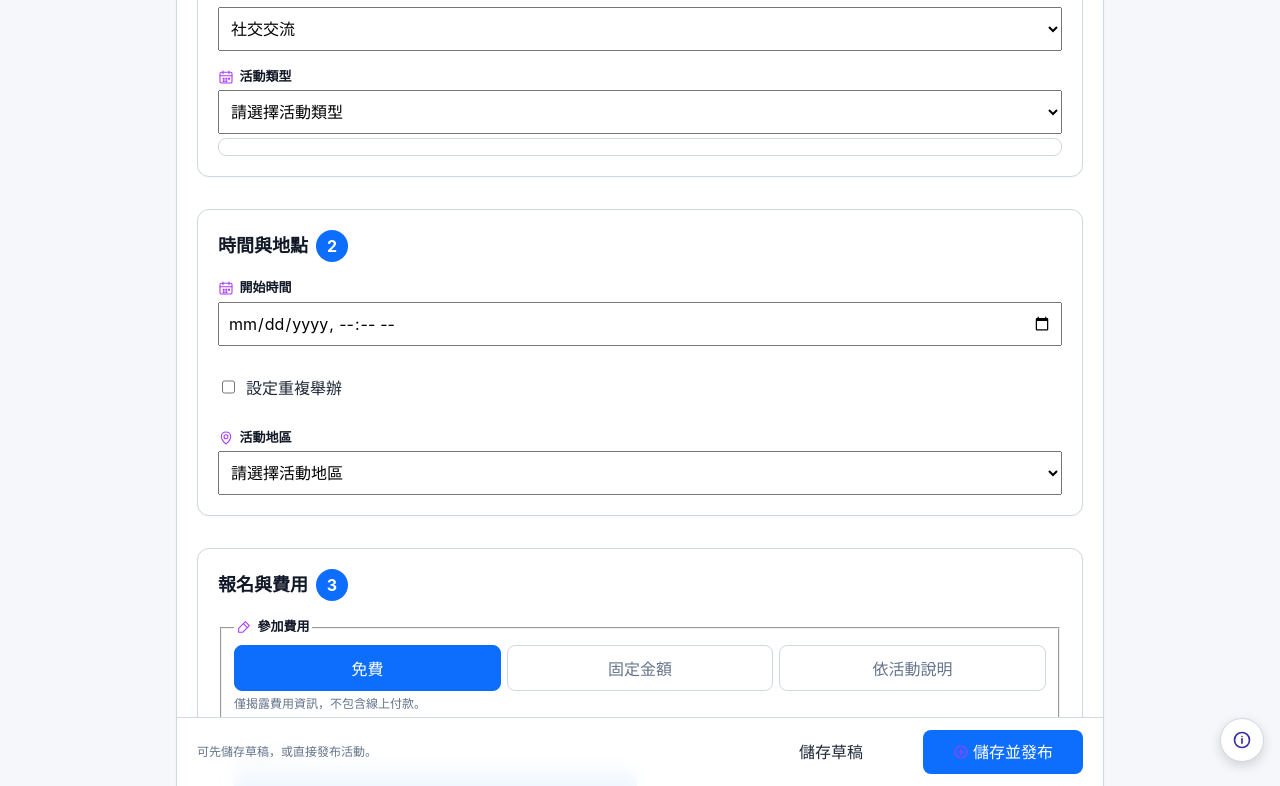
CreateEventPage › shows series deadline modes only for recurring events
(page scrolled)
expect the element "系列場次的報名截止方式" is not shown: met
Click the checkbox labelled "設定重複舉辦". click: (228, 387)
box: [222, 365, 235, 409]
(page scrolled)
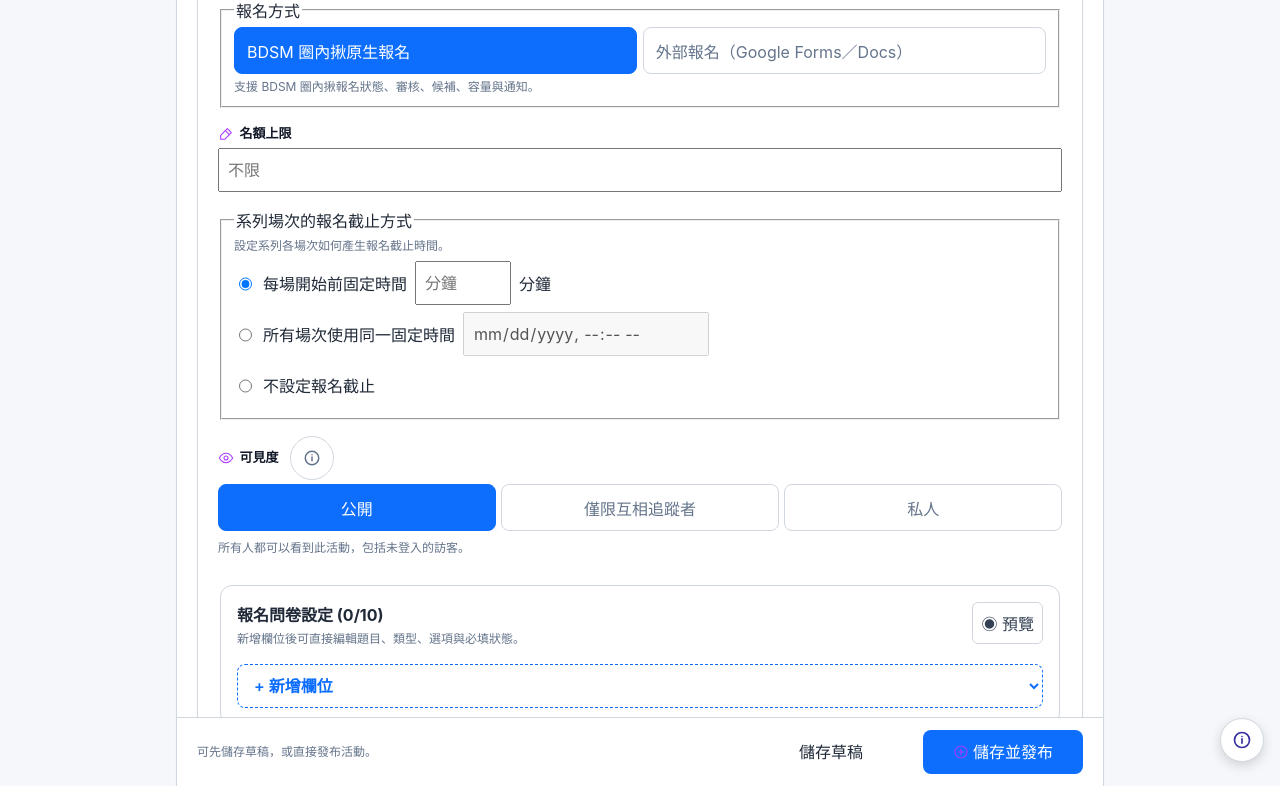
expect the element "系列場次的報名截止方式" is shown: met, box [220, 208, 1060, 420]
expect the radio button labelled "每場開始前固定時間" is shown: met, box [239, 262, 252, 306]
expect the radio button labelled "所有場次使用同一固定時間" is shown: met, box [239, 313, 252, 357]
